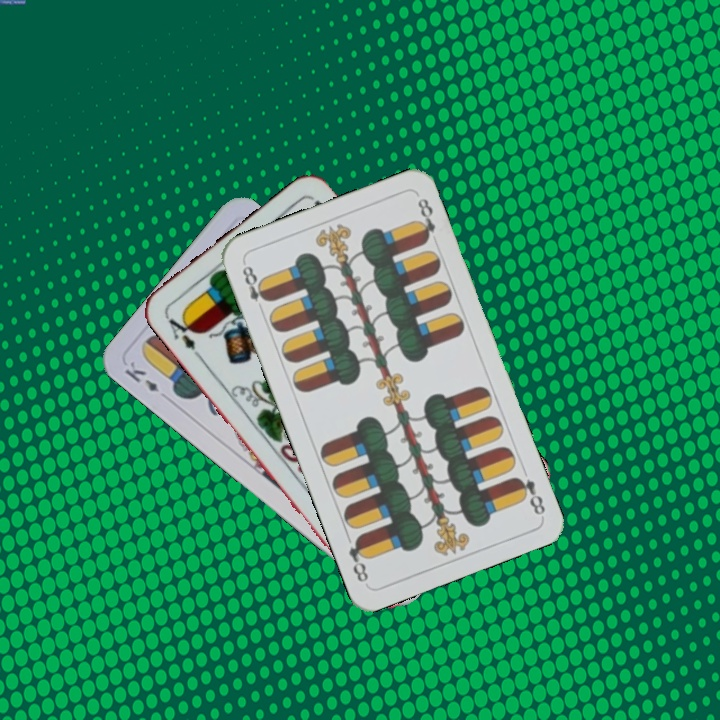E8: (238, 259, 272, 316), (510, 472, 548, 518)
EA: (161, 310, 205, 361)
EK: (120, 357, 162, 395)
